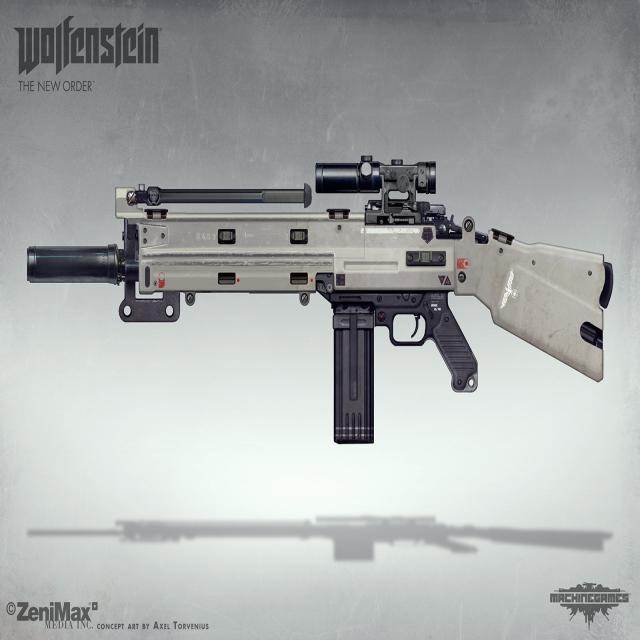Rifle: (26, 158, 614, 448)
